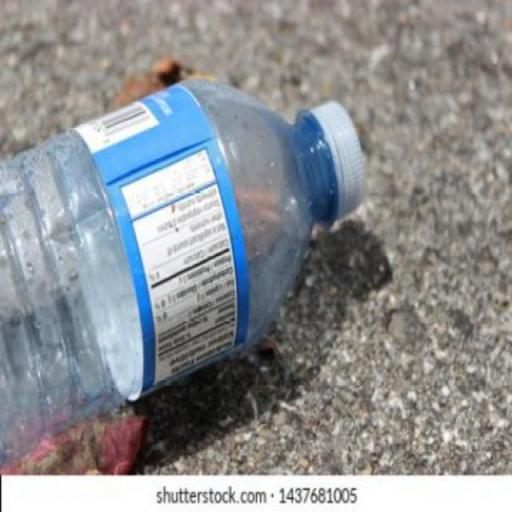Coca: (0, 62, 378, 466)
